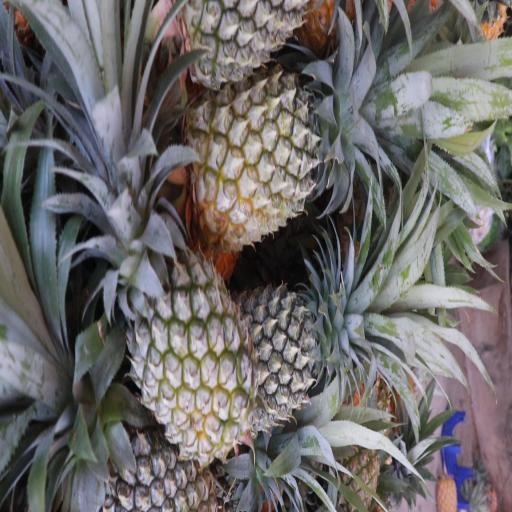------------------------------: (132, 247, 254, 454), (192, 86, 329, 234)
